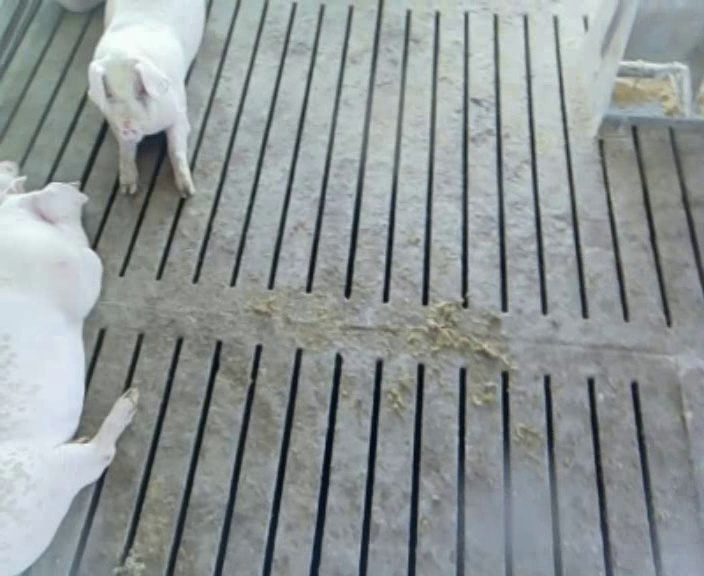pig: (0, 178, 137, 574), (88, 2, 205, 196)
